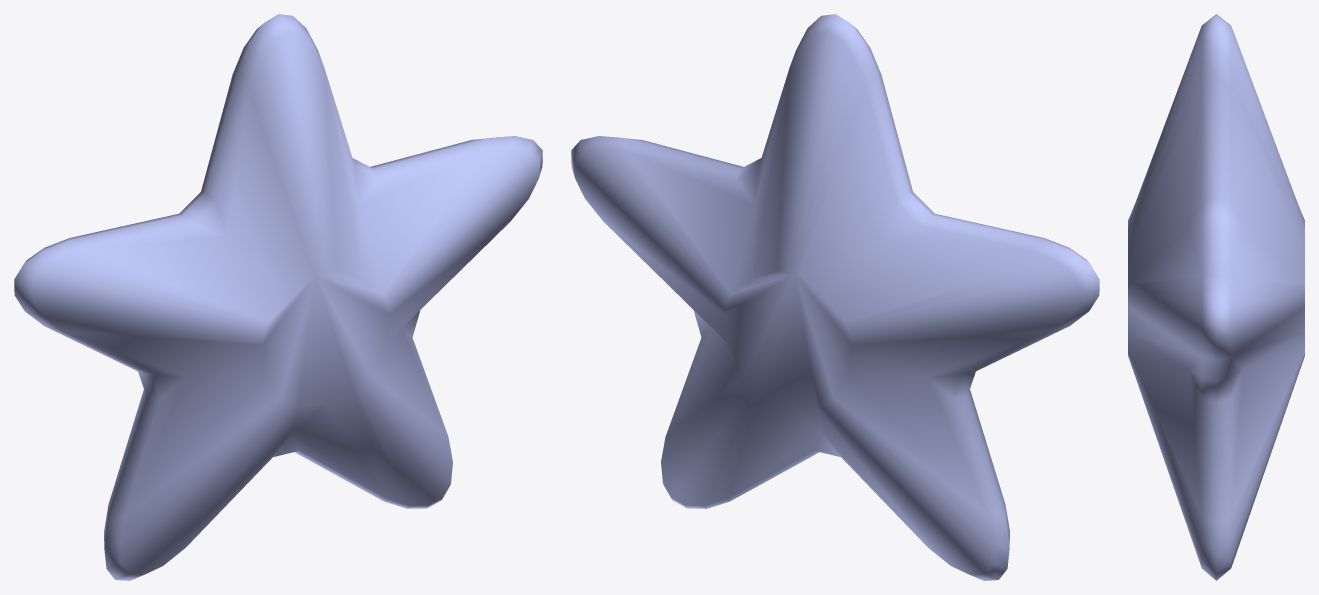
Rendered from STAR Item.fbx.
The picture shows the model from 3 angles, left to right: view 1: azimuth 30°, elevation 25°; view 2: azimuth 150°, elevation 25°; view 3: azimuth 270°, elevation 25°; orthographic projection. The views are drawn at different scales.
Parts seen in each view (by area): view 1: staritem; view 2: staritem; view 3: staritem.
Boxes of the visible parts, x1=… form: staritem: x1=14, y1=14, x2=542, y2=580; staritem: x1=571, y1=14, x2=1099, y2=580; staritem: x1=1128, y1=14, x2=1304, y2=580.
Bounding box in the file's own units: 48.69 × 46.7 × 15.11.
